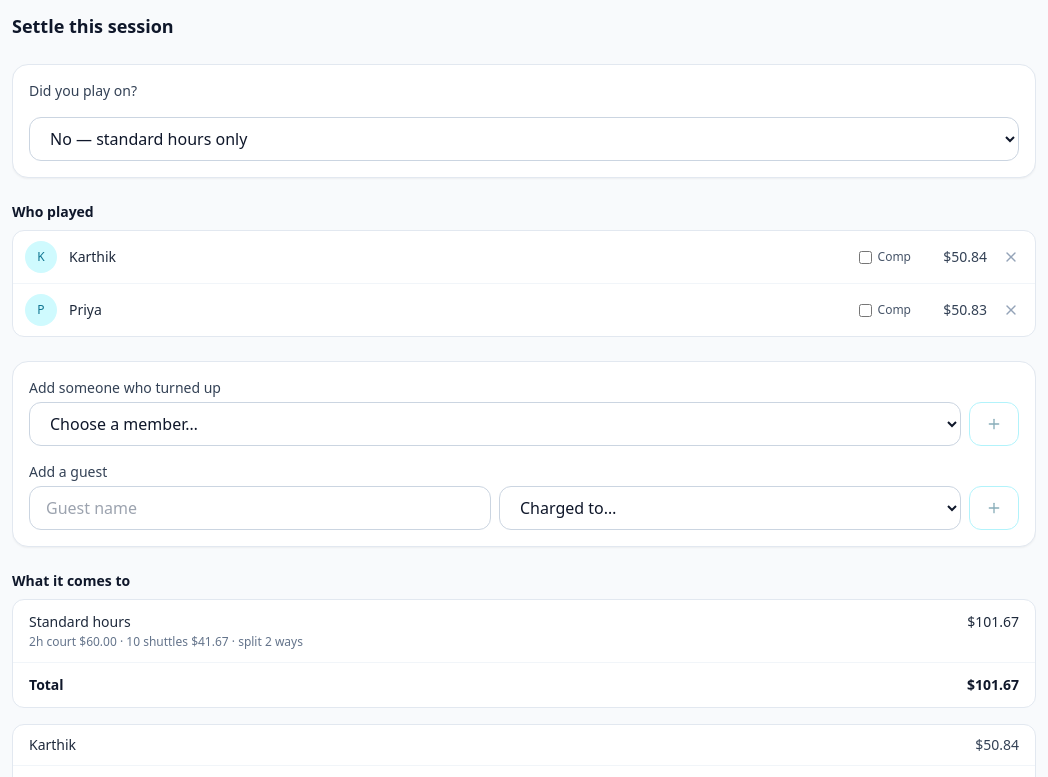
Test case: AdminSettlement › offers to record the missing shuttles rather than dead-ending
Expected: the text "Karthik" below "Who played" is shown, [69,247,116,266]
Select "Yes — one extra hour" in the dropdown labelled "Did you play on?" at coordinates (524, 139), box [29,117,1019,161]
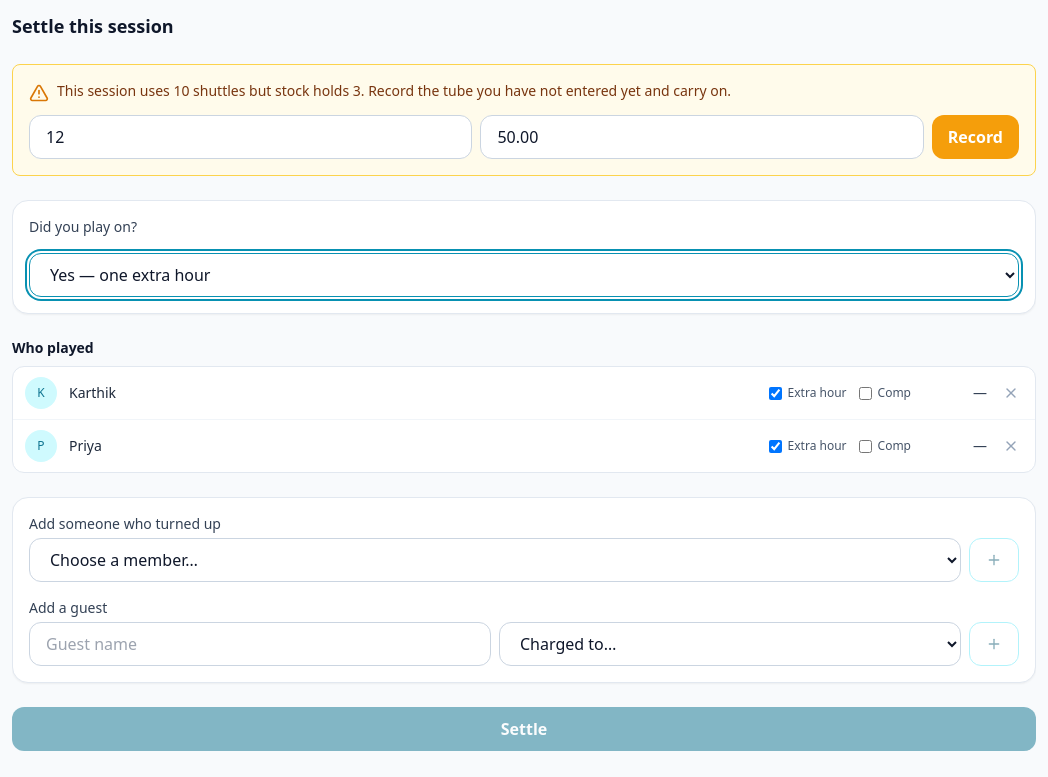
Expected: the text "uses 10 shuttles but stock holds 3" is shown, [57,81,731,101]
Expected: the button "Record" is shown, [932,115,1019,159]
